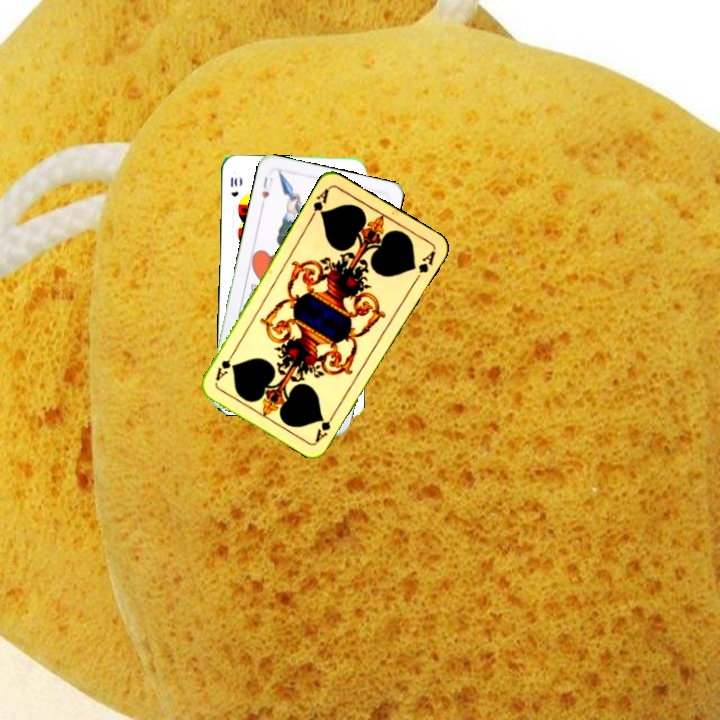GA: (311, 408, 338, 445), (306, 184, 332, 222)
HU: (257, 173, 276, 209)
S10: (227, 173, 240, 199)
